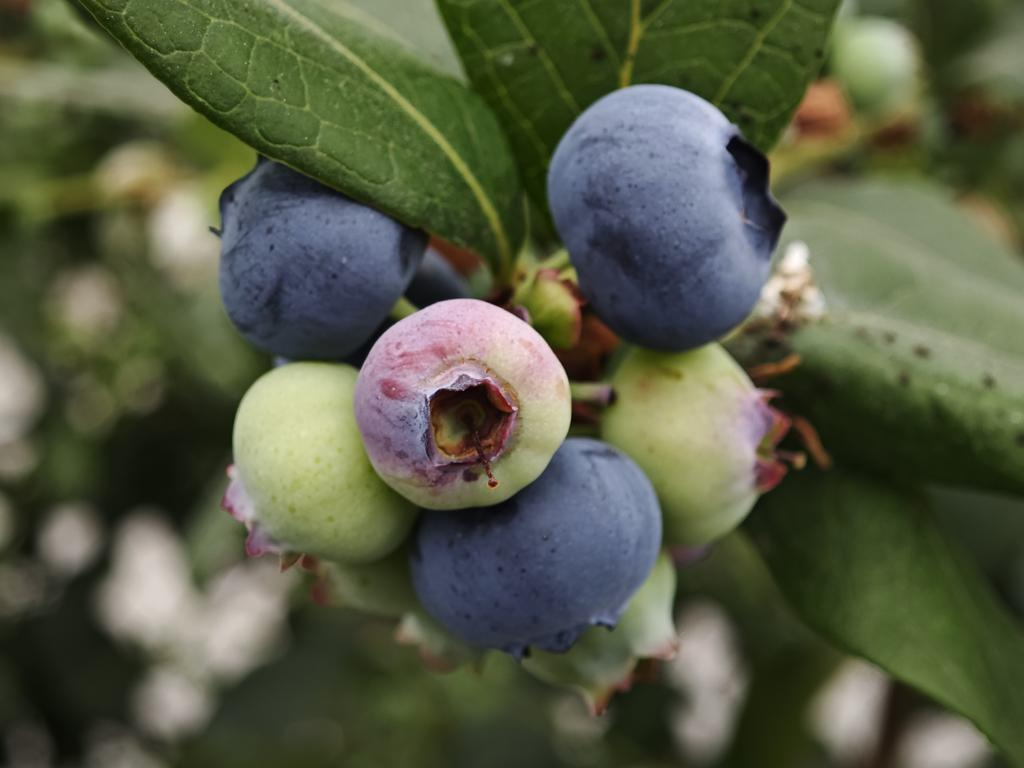RipeBlueBerry: (552, 86, 780, 343)
Semi-RipeBlueBerry: (356, 299, 571, 510)
